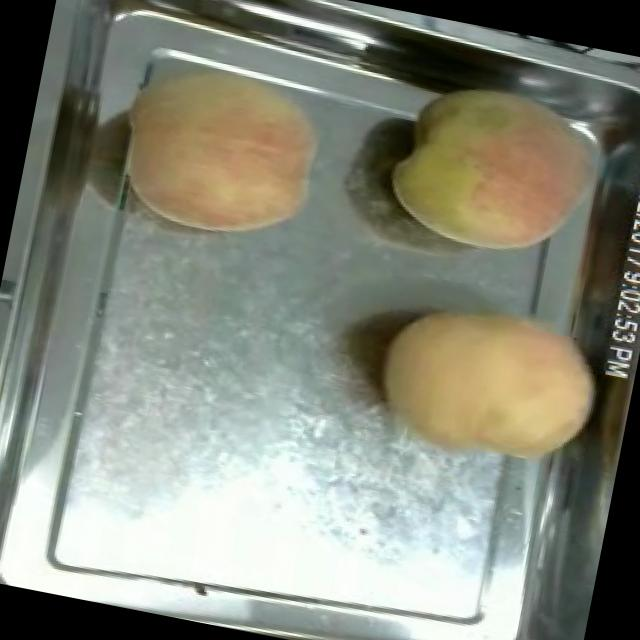Fruit: (356, 272, 622, 488), (100, 32, 348, 260), (372, 58, 618, 278)
